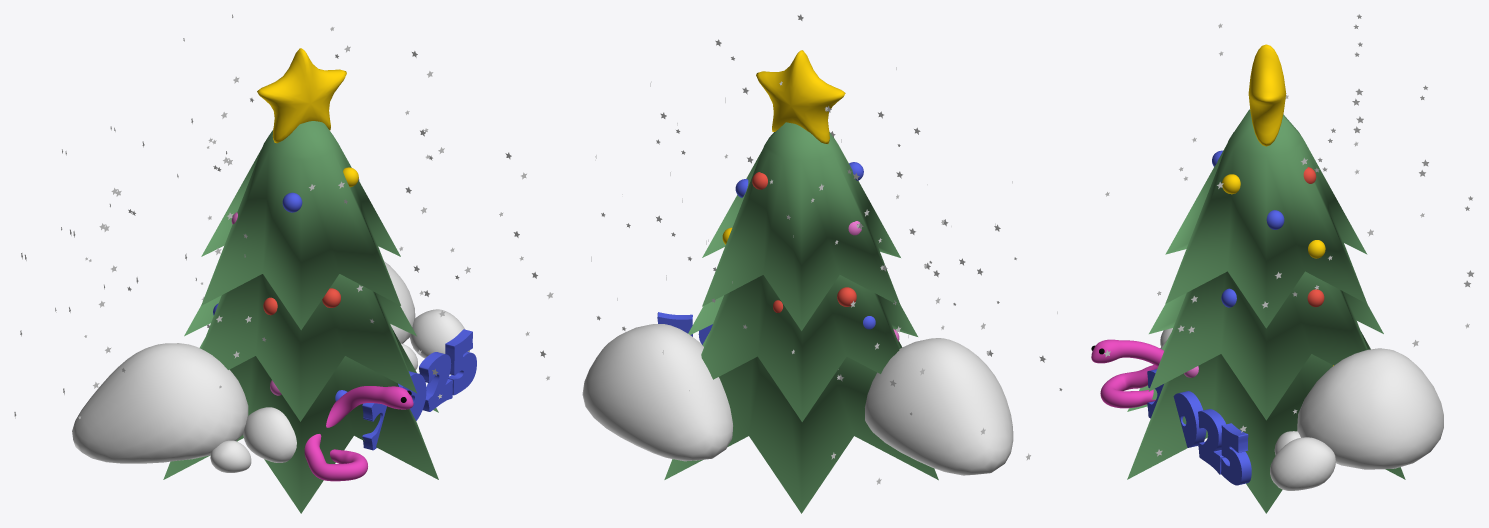
The picture shows the model from 3 angles, left to right: view 1: azimuth 30°, elevation 25°; view 2: azimuth 150°, elevation 25°; view 3: azimuth 270°, elevation 25°; orthographic projection.
Parts seen in each view (by area): view 1: Cylinder.003, Sphere.018, Cylinder.001, Cylinder.002, Zvezda, Text, Zmeya, Sphere.020; view 2: Cylinder.003, Cylinder.001, Sphere.018, Sphere.020, Cylinder.002, Zvezda, Text; view 3: Cylinder.003, Cylinder.001, Sphere.020, Cylinder.002, Text, Zmeya, Zvezda.
Part boxes in pixels (box(x1,y1,x2,y2)): Cylinder.003: box(201, 121, 400, 330); Sphere.018: box(72, 343, 296, 472); Cylinder.001: box(184, 274, 416, 421); Cylinder.002: box(163, 328, 438, 513); Zvezda: box(257, 48, 346, 143); Text: box(362, 329, 476, 450); Zmeya: box(304, 386, 413, 481); Sphere.020: box(384, 261, 469, 370); Cylinder.003: box(702, 122, 901, 330); Cylinder.001: box(688, 275, 917, 421); Sphere.018: box(865, 338, 1013, 475); Sphere.020: box(582, 324, 732, 461); Cylinder.002: box(664, 331, 938, 513); Zvezda: box(756, 50, 845, 143); Text: box(657, 312, 712, 344); Cylinder.003: box(1165, 109, 1367, 328); Cylinder.001: box(1148, 271, 1383, 420); Sphere.020: box(1270, 348, 1443, 490); Cylinder.002: box(1127, 332, 1405, 513); Text: box(1147, 369, 1251, 485); Zmeya: box(1091, 339, 1163, 408); Zvezda: box(1248, 44, 1286, 146).
Bounding box in the file's own units: 2.8 × 2.29 × 1.91.
